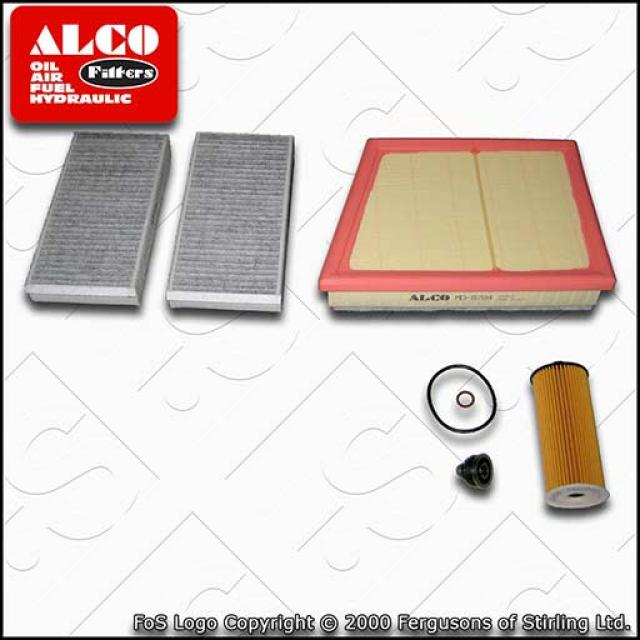air_filter: (317, 125, 623, 320), (23, 121, 164, 322), (165, 128, 298, 312)
oil_filter: (525, 357, 615, 512)
